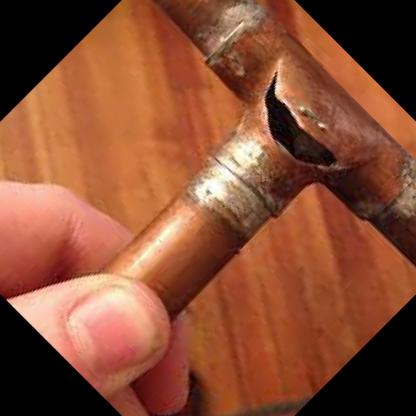burst: (262, 62, 353, 190)
